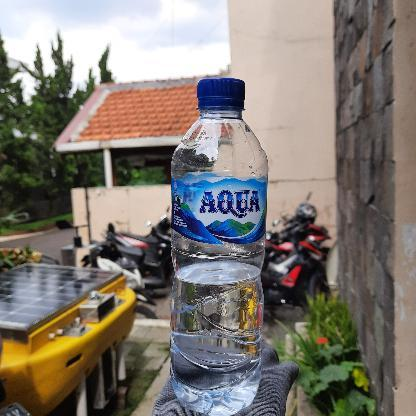Plastic Bottle: (166, 73, 272, 416)
